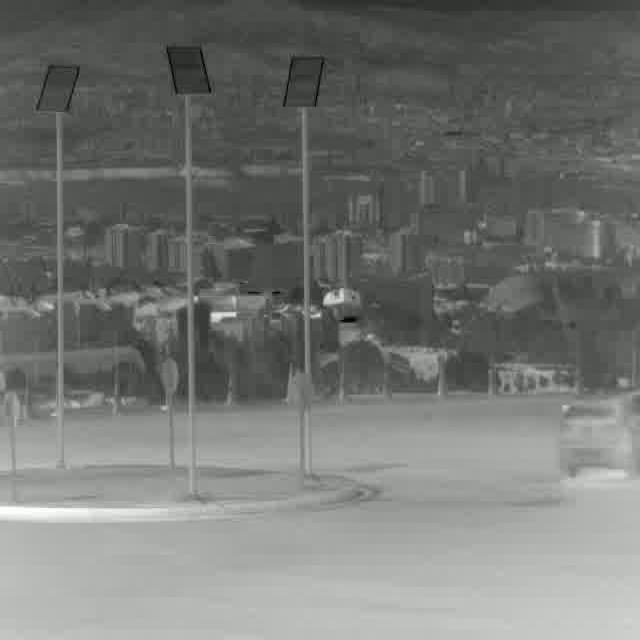Car: (560, 392, 640, 479)
